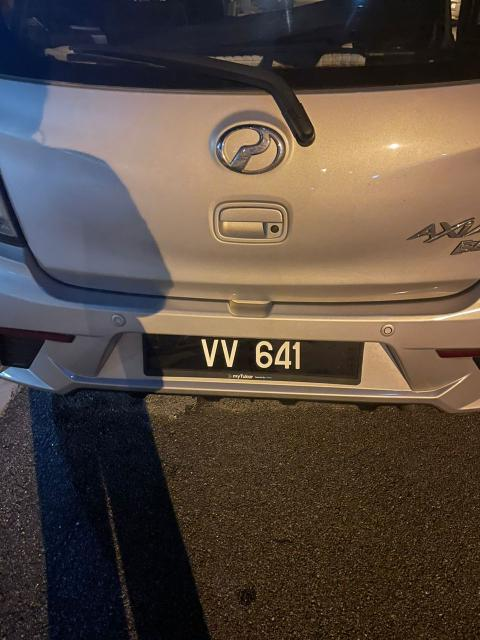License_Plate: (151, 331, 339, 386)
car: (1, 1, 480, 441)
